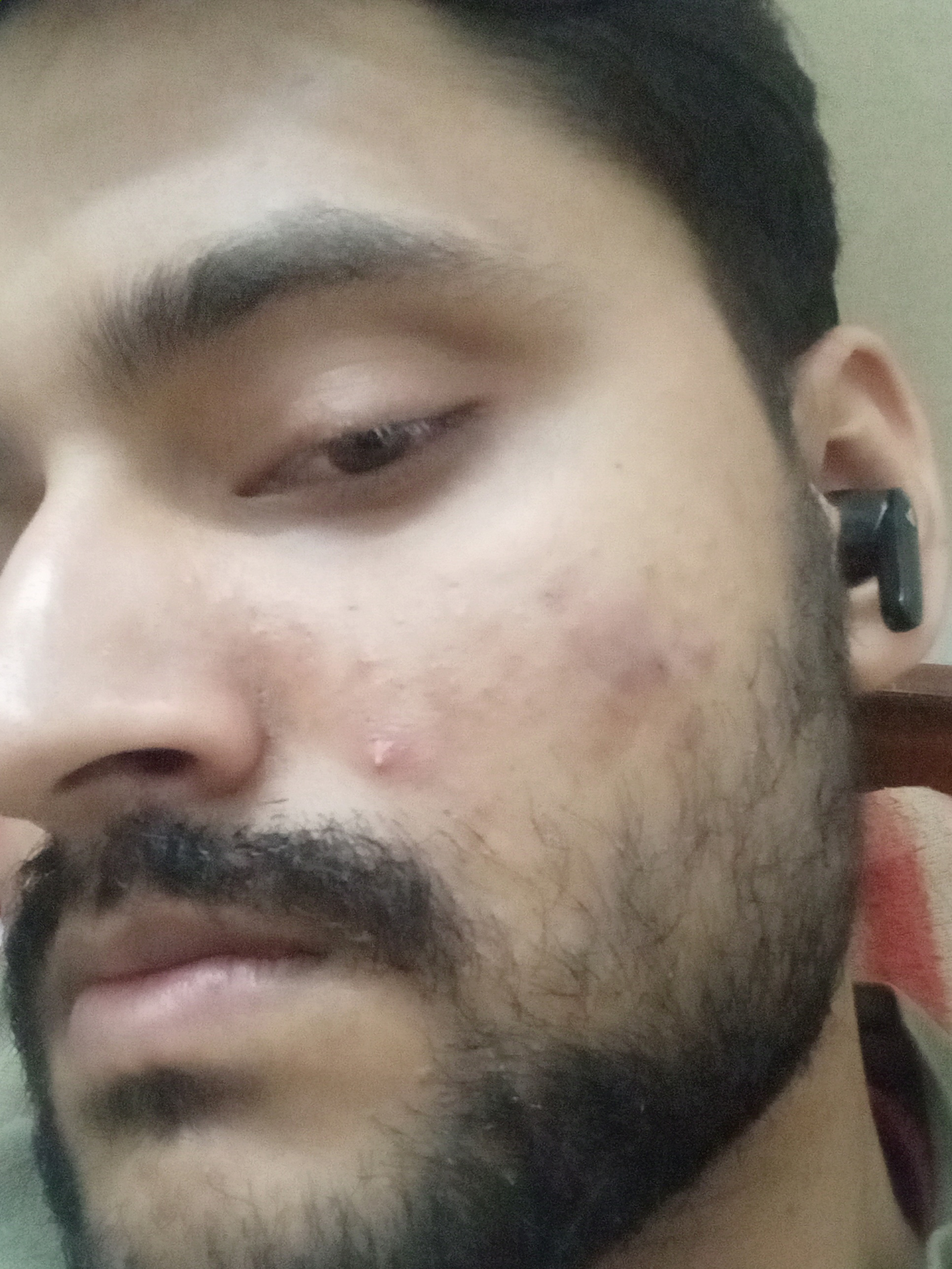pustule: (360, 737, 407, 774)
